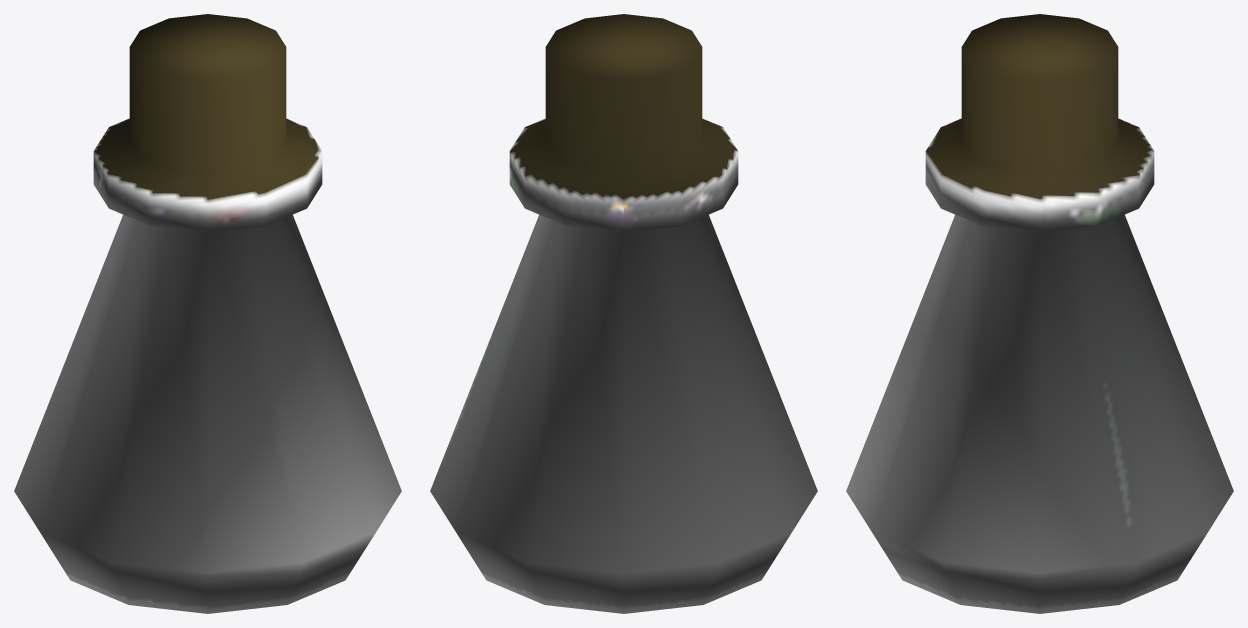
File: Potions2.fbx
The picture shows the model from 3 angles, left to right: view 1: azimuth 30°, elevation 25°; view 2: azimuth 150°, elevation 25°; view 3: azimuth 270°, elevation 25°; orthographic projection.
Parts seen in each view (by area): view 1: Cylinder.009; view 2: Cylinder.009; view 3: Cylinder.009.
Part boxes in pixels (x1,y1,x2,y2): Cylinder.009: (14,14,401,613); Cylinder.009: (430,14,817,613); Cylinder.009: (846,14,1233,613).
Size of the model in its own units: 39.7 by 56.43 by 39.7.
